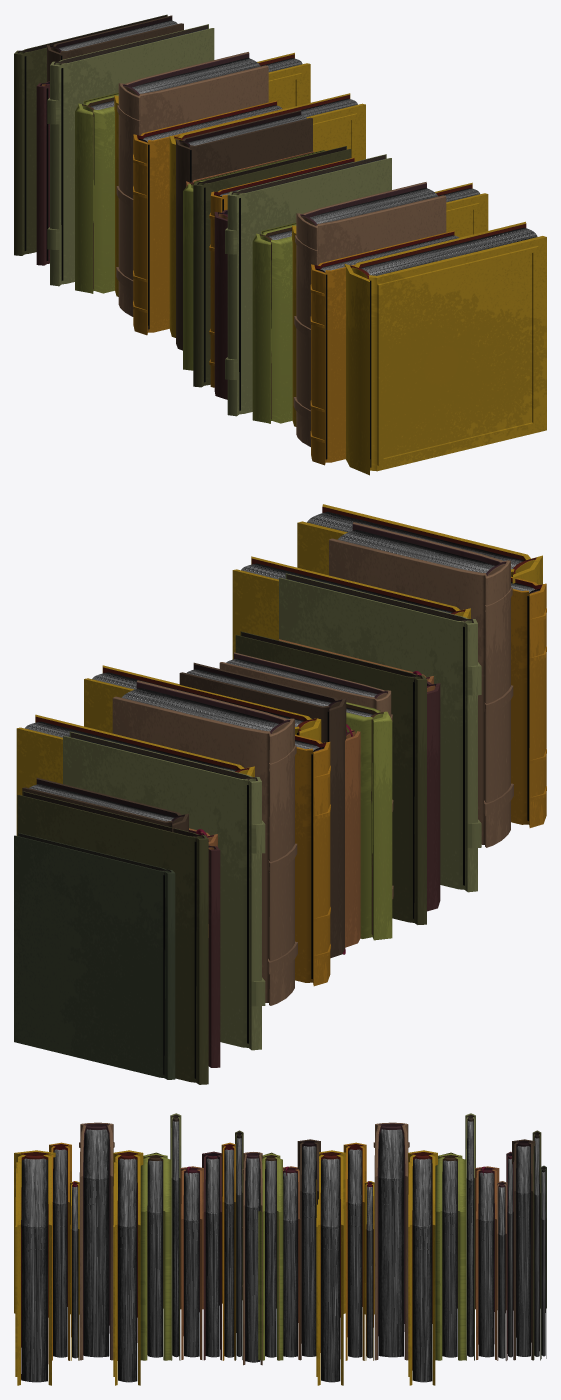
The model's file is Shelf3.fbx.
3 views of the same model, one above another, from view 1: azimuth 30°, elevation 25°; view 2: azimuth 150°, elevation 25°; view 3: azimuth 270°, elevation 25° (orthographic). The views are drawn at different scales.
Parts seen in each view (by area): view 1: pCube12 (×4), pCube14 (×2), pCube71 (×2), pCube11 (×3), pCube15 (×3), pCube67 (×2), pCube68 (×2), pCube69 (×2), pages13 (×2), pages14, pages11 (×2), pages8 (×2) (+2 smaller); view 2: pCube14 (×2), pCube71 (×3), pCube66, pCube67 (×2), pCube15 (×2), pCube12 (×4), pCube68 (×2), pCube11, pCube69 (×2), pages13 (×3), pages14 (×4), pCube72 (+3 smaller); view 3: pages14 (×4), pages13 (×3), pCube11 (×3), pCube12 (×4), pages17 (×3), pages15 (×3), pages11 (×3), pages8 (×2), pCube71 (×3), pages9 (×2), pCube72 (×3), pCube15 (×3) (+12 smaller).
Part boxes in pixels (<box>): pCube12 (×4): <box>114,52,546,475</box>; pCube14 (×2): <box>47,24,391,416</box>; pCube71 (×2): <box>116,52,446,446</box>; pCube11 (×3): <box>75,92,325,423</box>; pCube15 (×3): <box>133,100,454,465</box>; pCube67 (×2): <box>14,14,351,387</box>; pCube68 (×2): <box>46,15,312,350</box>; pCube69 (×2): <box>36,81,227,399</box>; pages13 (×2): <box>132,58,438,223</box>; pages14: <box>360,227,537,467</box>; pages11 (×2): <box>139,105,458,459</box>; pages8 (×2): <box>58,20,306,181</box>; pCube14 (×2): <box>63,573,481,1050</box>; pCube71 (×3): <box>112,522,513,1005</box>; pCube66: <box>14,832,175,1079</box>; pCube67 (×2): <box>17,631,426,1084</box>; pCube15 (×2): <box>295,576,546,986</box>; pCube12 (×4): <box>16,504,542,835</box>; pCube68 (×2): <box>22,662,346,958</box>; pCube11: <box>346,702,392,940</box>; pCube69 (×2): <box>208,681,440,1067</box>; pages13 (×3): <box>121,529,495,731</box>; pages14 (×4): <box>25,511,523,771</box>; pCube72: <box>345,729,360,947</box>; pages14 (×4): <box>21,1158,432,1382</box>; pages13 (×3): <box>83,1129,403,1362</box>; pCube11 (×3): <box>140,1152,465,1360</box>; pCube12 (×4): <box>14,1150,437,1385</box>; pages17 (×3): <box>184,1172,494,1357</box>; pages15 (×3): <box>147,1160,457,1357</box>; pages11 (×3): <box>53,1149,362,1357</box>; pages8 (×2): <box>302,1146,530,1356</box>; pCube71 (×3): <box>79,1122,409,1365</box>; pages9 (×2): <box>205,1158,512,1357</box>; pCube72 (×3): <box>180,1166,499,1359</box>; pCube15 (×3): <box>49,1142,366,1360</box>.
Bounding box in the file's own units: 1.09 × 1.07 × 2.68.
